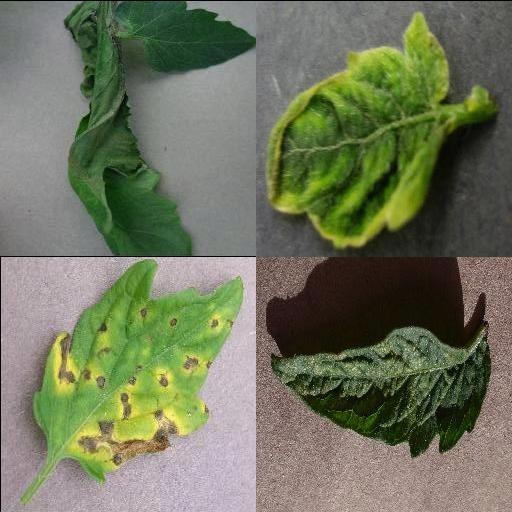Healthy: (115, 0, 256, 76)
Late Blight: (65, 0, 193, 256)
Septoria: (29, 260, 245, 480)
Spider Mites: (271, 324, 491, 456)
Yellow Leaf Curl Virus: (264, 8, 452, 245)
